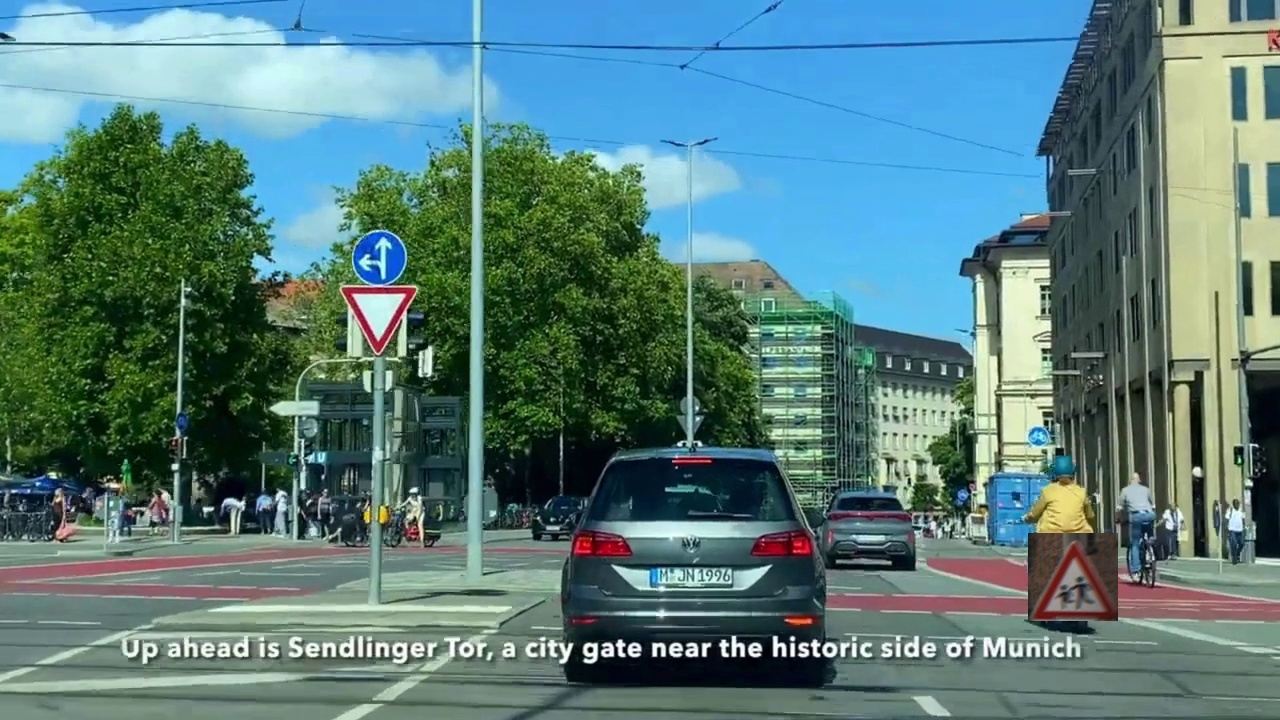Children: (1028, 533, 1118, 621)
